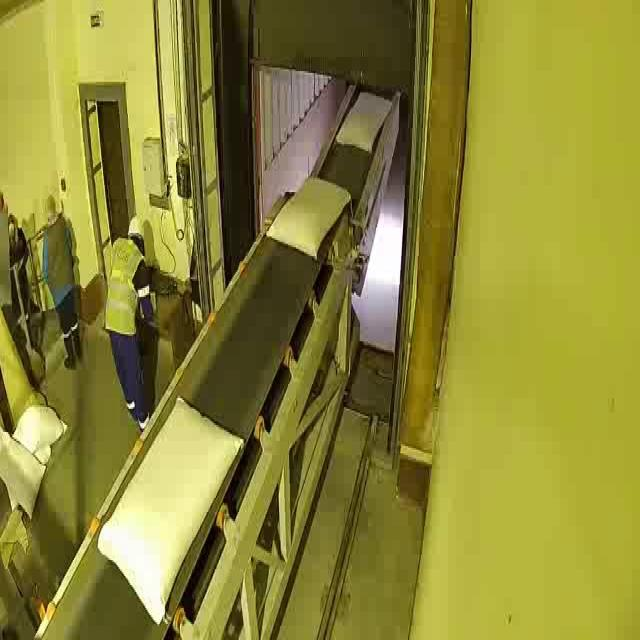bag: (97, 398, 239, 622), (266, 176, 351, 260), (337, 96, 391, 153)
